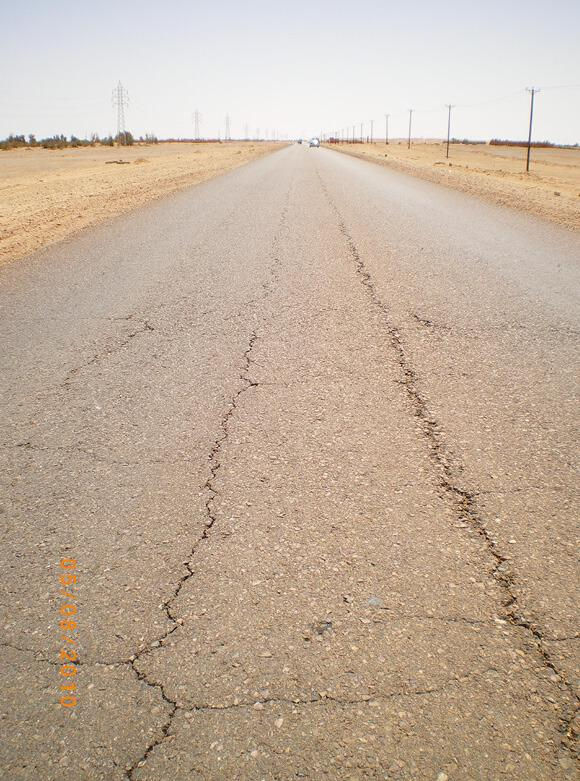Crack: (339, 221, 579, 752), (98, 330, 260, 766), (94, 538, 373, 779), (331, 213, 494, 526), (468, 528, 580, 757), (184, 322, 263, 536), (59, 309, 155, 388), (60, 321, 155, 388), (15, 638, 84, 680), (23, 648, 80, 675), (272, 691, 370, 704), (409, 311, 449, 335)
